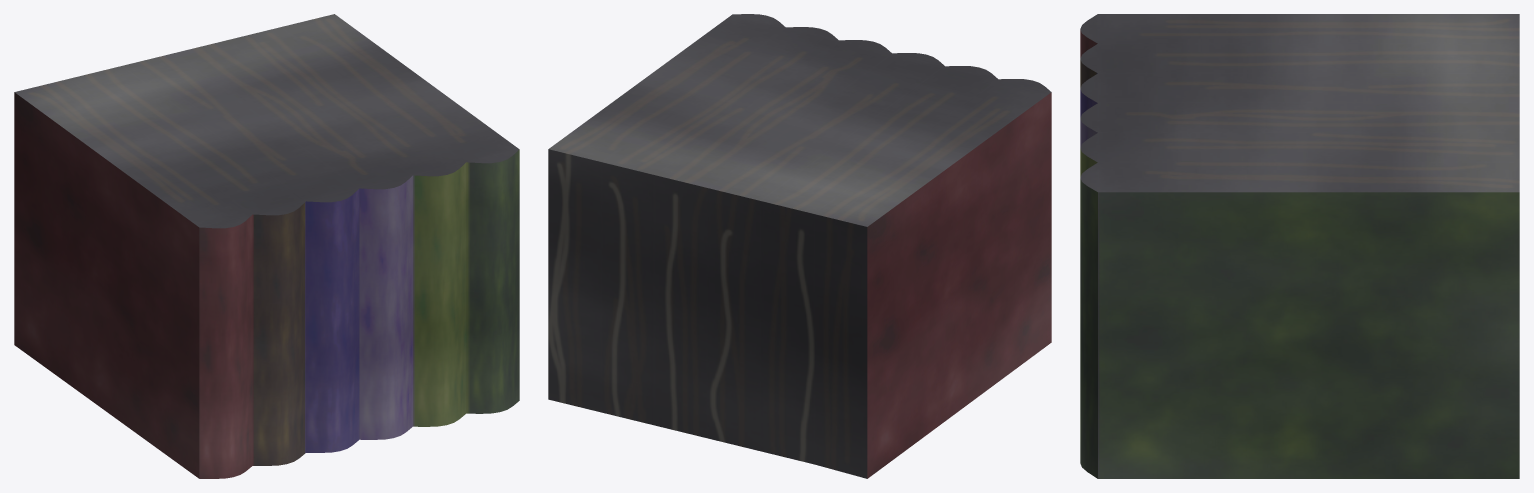
File: book_03.fbx
3 views of the same model, side by side, from view 1: azimuth 30°, elevation 25°; view 2: azimuth 150°, elevation 25°; view 3: azimuth 270°, elevation 25° (orthographic). The views are drawn at different scales.
Visible parts, largest first — view 1: Box001; view 2: Box001; view 3: Box001.
Part boxes in pixels (x1,y1,x2,y2): Box001: (14, 14, 519, 478); Box001: (548, 14, 1051, 478); Box001: (1080, 14, 1519, 478).
Size of the model in its own units: 15.75 by 11.89 by 16.41.
1 material, 1 textured.
